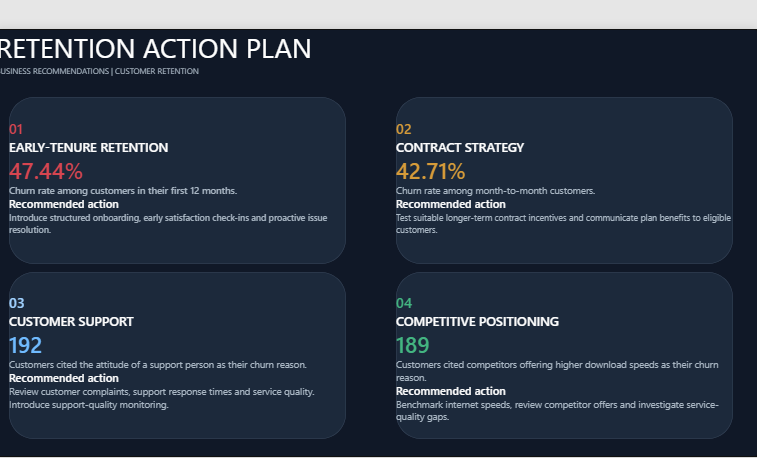

Layout of this report page (visuals, bound fields, positions):
{"tool":"powerbi","page":{"name":"RETENTION ACTION PLAN","canvas":[1280,720],"ordinal":3},"visuals":[{"type":"textbox","box":[10,0,280,280],"z":0},{"type":"textbox","title":"RETENTION ACTION PLAN","box":[0,0,688.7,126],"z":1000},{"type":"shape","box":[21.8,114.2,566.1,280.5],"z":2000},{"type":"shape","box":[671.9,114.2,566.1,280.5],"z":3000},{"type":"shape","box":[21.8,408.2,566.1,280.5],"z":4000},{"type":"shape","box":[671.9,408.2,566.1,280.5],"z":5000},{"type":"textbox","box":[21.8,151.2,566.1,208.3],"z":6000},{"type":"textbox","box":[671.9,151.2,591.3,208.3],"z":7000},{"type":"textbox","box":[21.8,443.5,566.1,203.3],"z":8000},{"type":"textbox","box":[671.9,443.5,566.1,226.8],"z":9000}]}

Visuals, with their boxes on the page's 1280x720 design canvas (x1, y1, x2, y2). These are canvas units, not pixel positions in the 757x458 screenshot, which may show the page scaled, cropped or inside an application window:
textbox: box=[10, 0, 290, 280]
"RETENTION ACTION PLAN" textbox: box=[0, 0, 689, 126]
shape: box=[22, 114, 588, 395]
shape: box=[672, 114, 1238, 395]
shape: box=[22, 408, 588, 689]
shape: box=[672, 408, 1238, 689]
textbox: box=[22, 151, 588, 360]
textbox: box=[672, 151, 1263, 360]
textbox: box=[22, 444, 588, 647]
textbox: box=[672, 444, 1238, 670]
